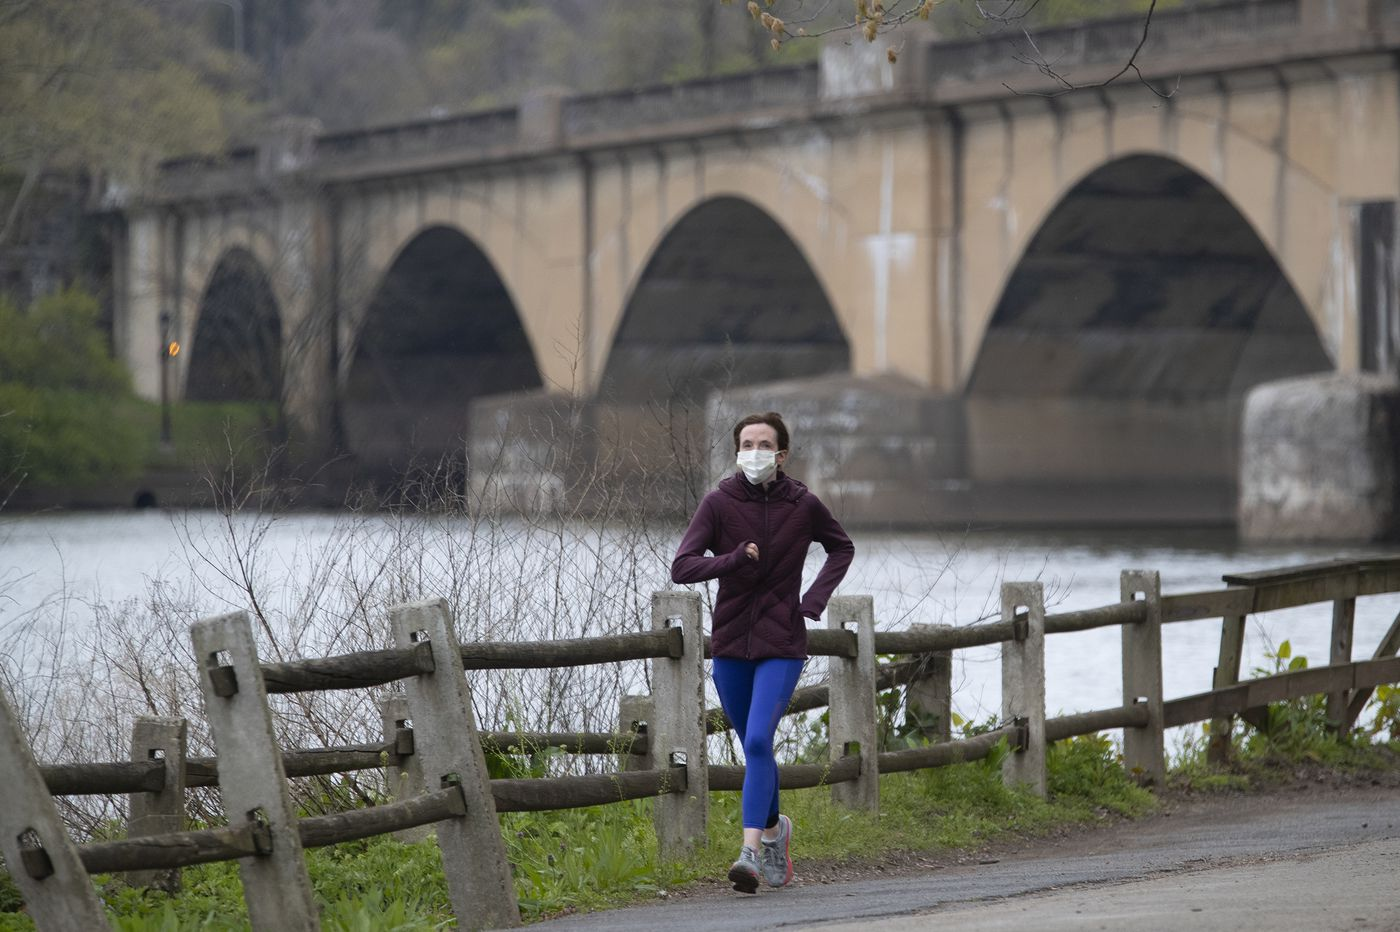with_mask: (723, 417, 800, 488)
